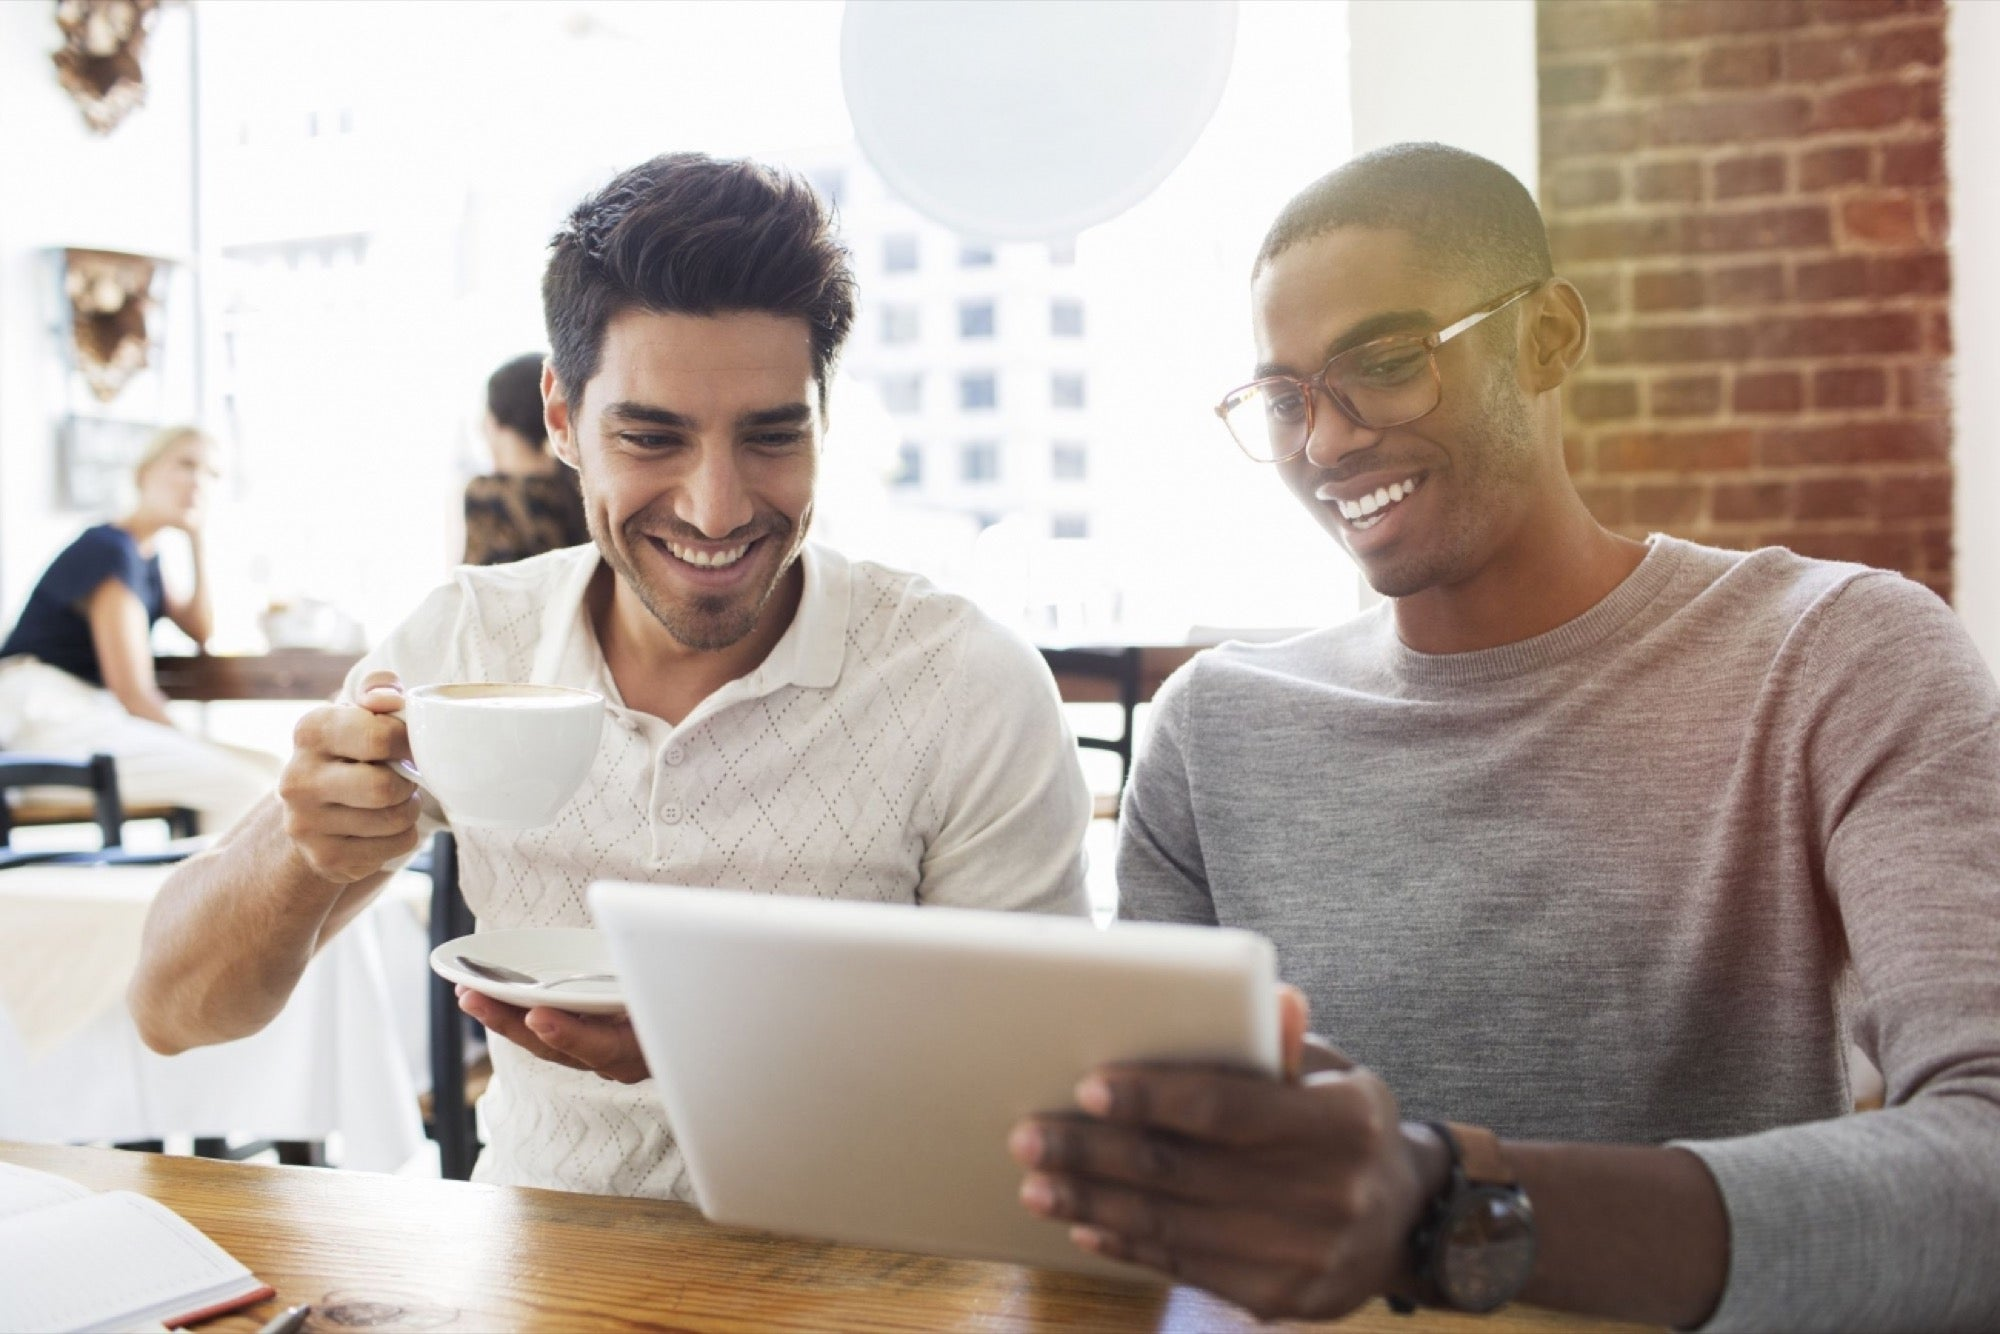human: (1019, 133, 2000, 1334), (124, 151, 1116, 1236)
